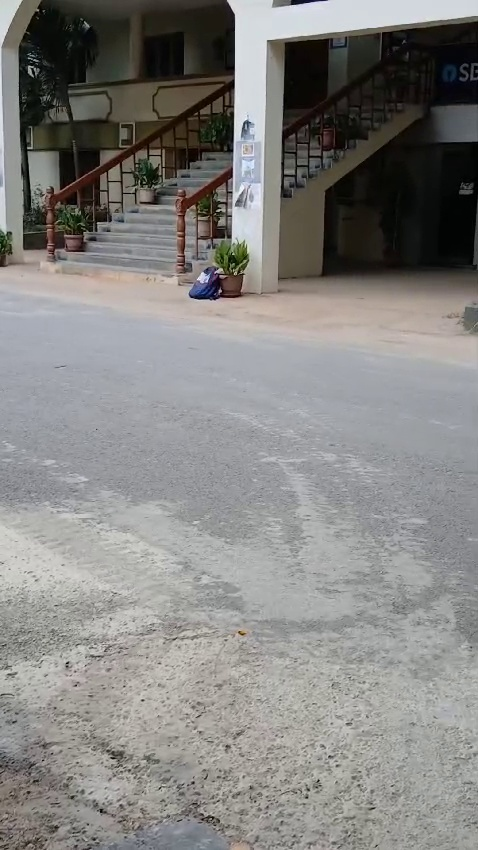bag: (185, 253, 219, 303)
